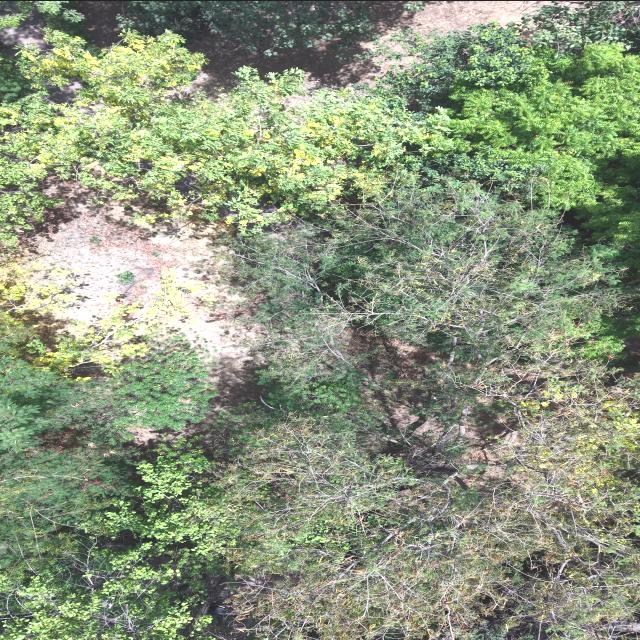DRY_AREA: (34, 182, 263, 445), (35, 182, 261, 411), (30, 182, 257, 408), (33, 182, 259, 408), (36, 182, 258, 408), (34, 183, 247, 358), (37, 183, 247, 359), (188, 34, 390, 89), (188, 33, 388, 88), (206, 36, 389, 89), (369, 1, 536, 40), (379, 1, 546, 40), (371, 1, 536, 40), (363, 1, 545, 33), (405, 1, 540, 33), (77, 1, 122, 46), (0, 13, 45, 58)
VEGETATION_TREE: (0, 1, 639, 639), (219, 185, 637, 639), (3, 26, 638, 242), (3, 32, 460, 229), (371, 25, 639, 246), (118, 1, 372, 55), (523, 1, 639, 50)
